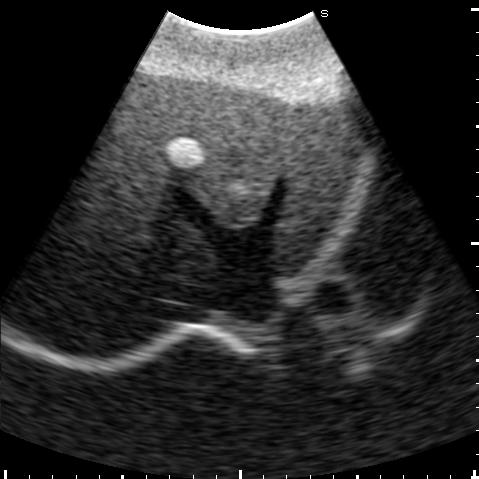S2: (271, 121, 358, 276)
S4: (125, 81, 302, 225)
S7: (44, 220, 163, 345)
S8: (85, 114, 211, 260)
Tumor: (164, 135, 205, 170)
